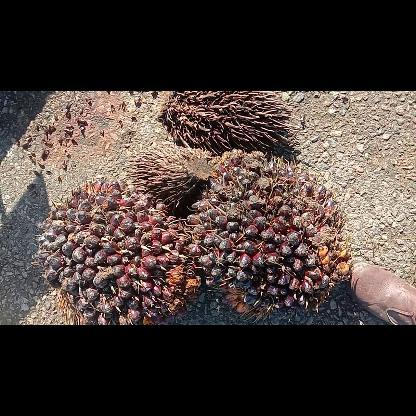Janjang kosong: (159, 92, 303, 152), (126, 136, 210, 206)
TBS mentah: (184, 148, 352, 322), (32, 178, 200, 324)
